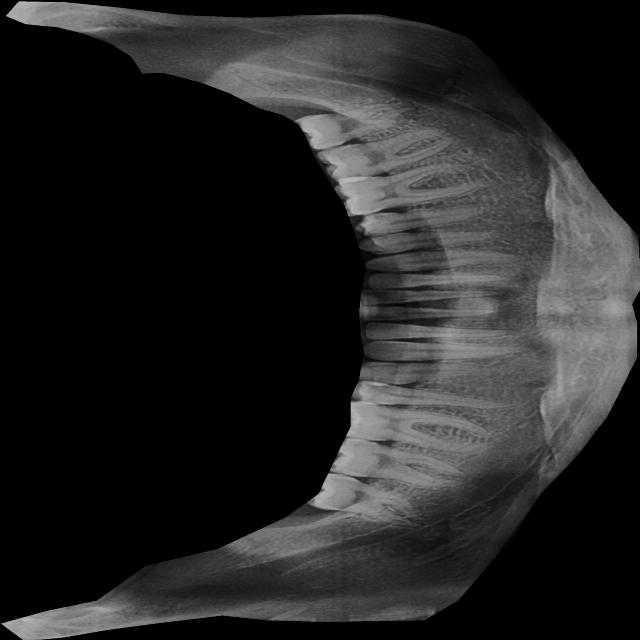mandibula: (1, 0, 640, 640)
